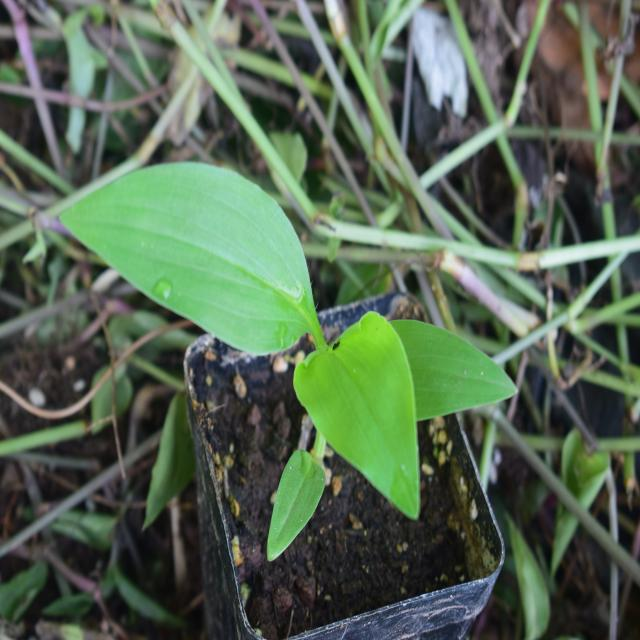Common Dayflower: (76, 164, 515, 511)
